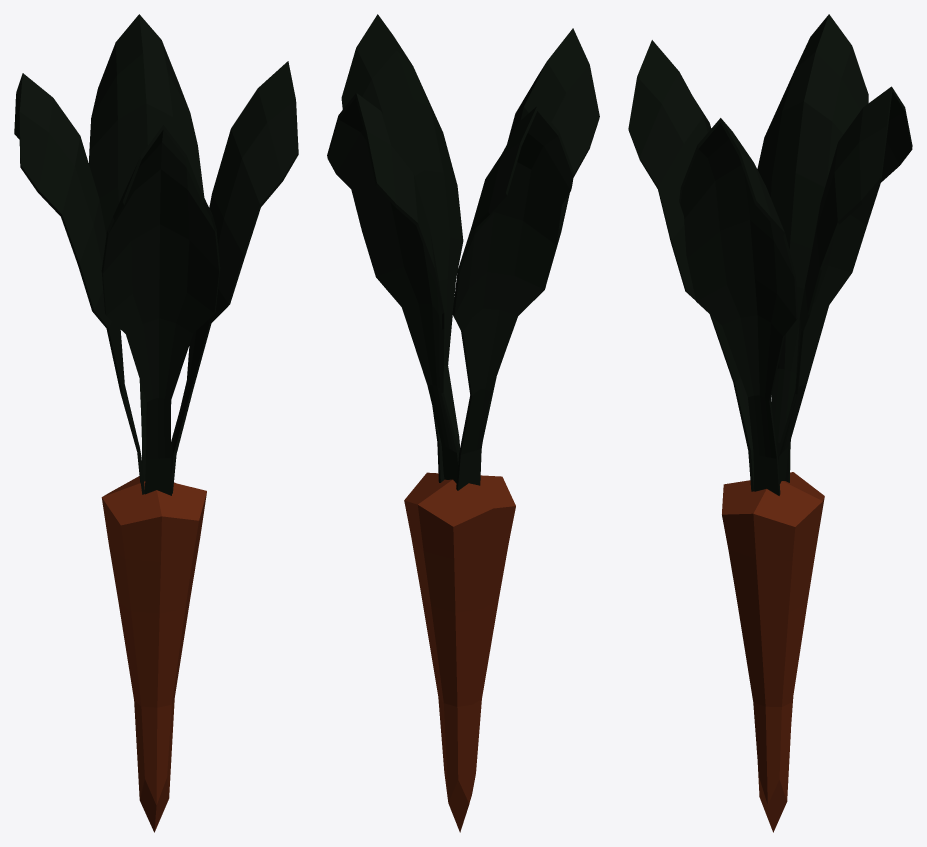
Rendered from Carrot.obj.
3 views of the same model, side by side, from view 1: azimuth 30°, elevation 25°; view 2: azimuth 150°, elevation 25°; view 3: azimuth 270°, elevation 25° (orthographic).
Parts seen in each view (by area): view 1: Carrot_Cube.047; view 2: Carrot_Cube.047; view 3: Carrot_Cube.047.
Part boxes in pixels (x1,y1,x2,y2): Carrot_Cube.047: (14, 14, 298, 832); Carrot_Cube.047: (327, 14, 599, 832); Carrot_Cube.047: (628, 14, 912, 832).
Bounding box in the file's own units: 0.9467 × 2.78 × 0.9316.
